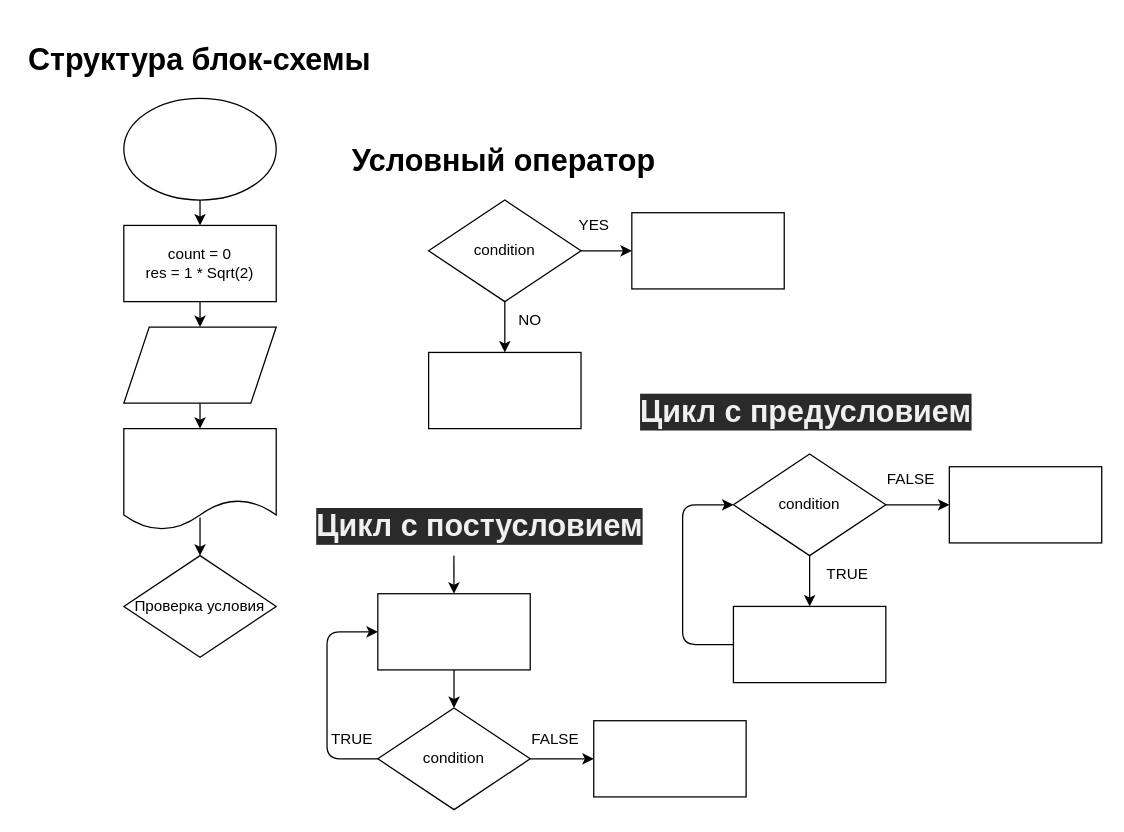
Some shapes in this 1124 by 832 pixel diagram are drawn without their labels. The shapes that lost their labels are listed below. From the top down, each one's box as (x1, y1, x2, y2) in pixels, then its label:
(123, 97, 276, 200): START END
(123, 326, 276, 403): ВВОД count
(123, 427, 276, 530): ВЫВОД count
